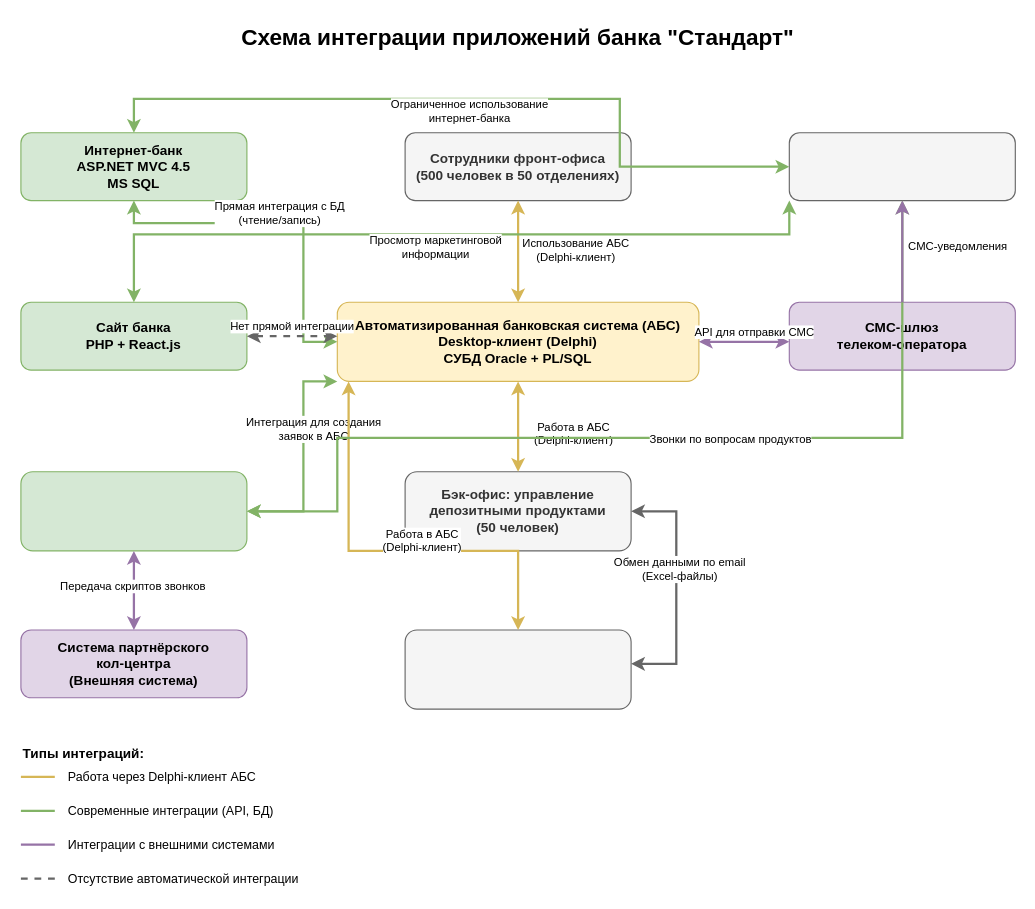
Image size: 1035x909. Some labels were removed from this diagram. Here are the shapes that lost their labels. From the top down, the centre of each, then its label:
the point at 901,166: Клиенты банка
the point at 133,511: Система кол-центра React.js + Java Spring Boot PostgreSQL
the point at 517,669: Бэк-офис: управление кредитными продуктами (50 человек)
